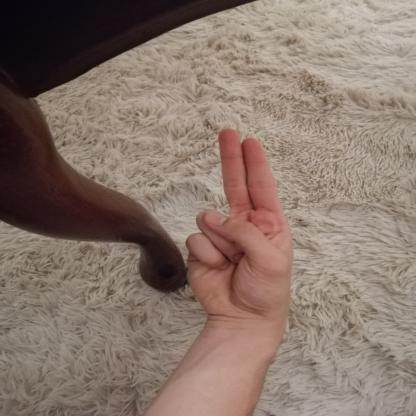TA: (170, 120, 307, 330)
